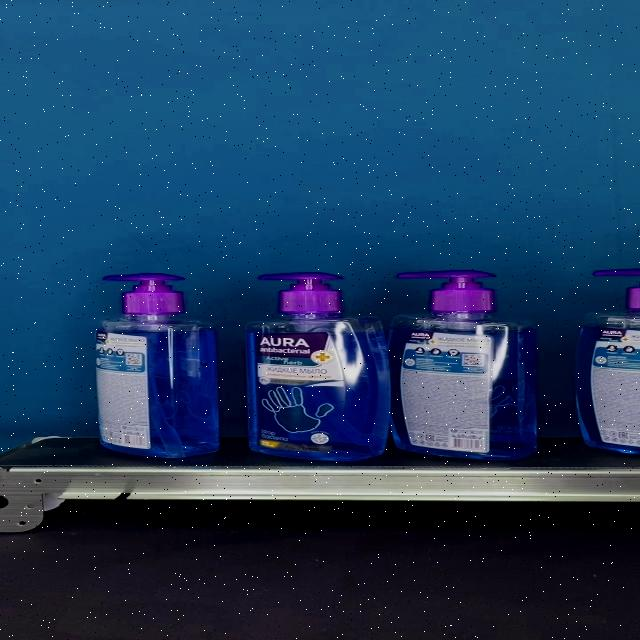Bottle: (387, 271, 538, 460), (245, 272, 391, 462), (93, 274, 220, 458)
Cap: (395, 271, 495, 313), (257, 272, 343, 313), (102, 274, 184, 315)
